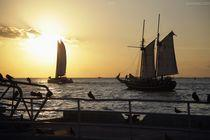fanchuan: (114, 11, 181, 91), (47, 38, 74, 86)
